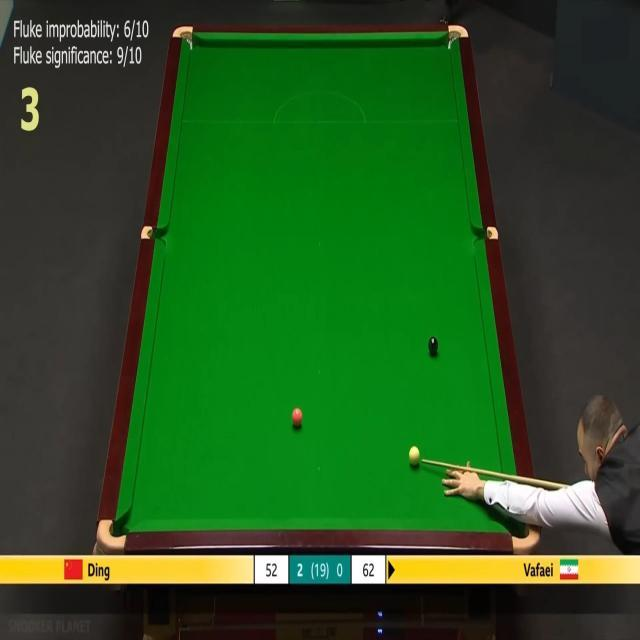Ball: (410, 445, 420, 465), (292, 408, 302, 427), (428, 336, 438, 354)
